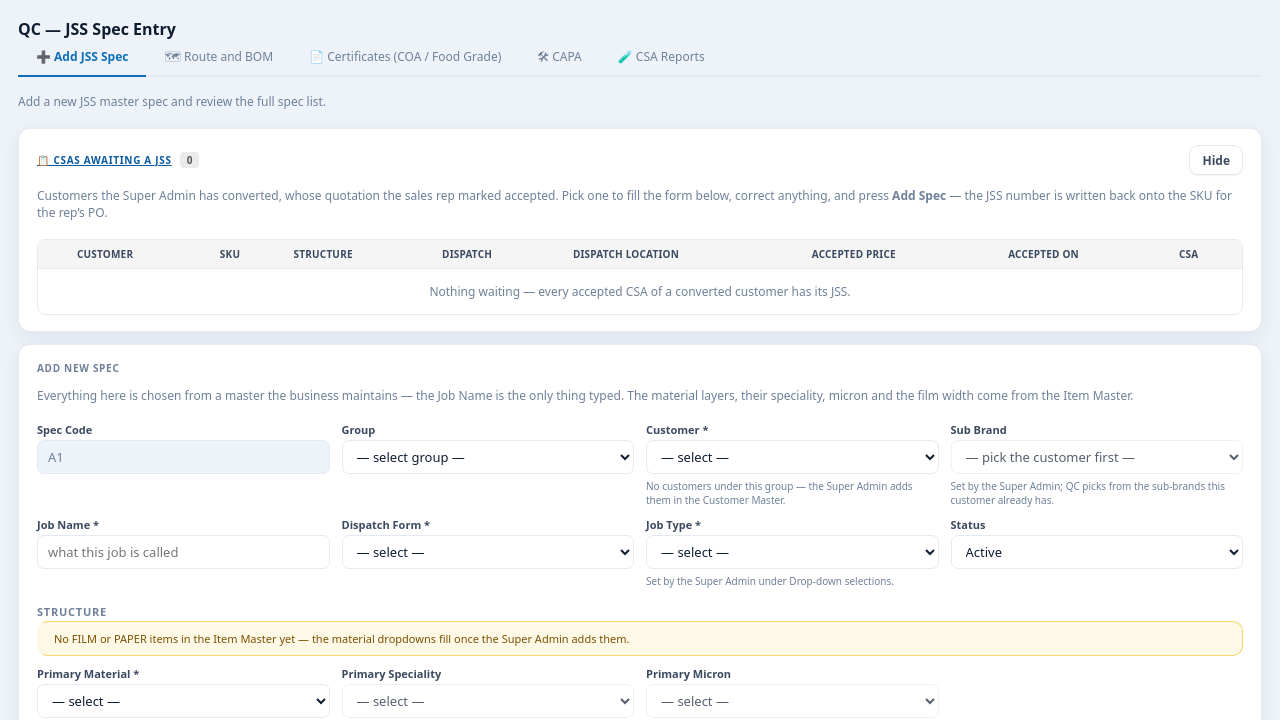
QC Certificates screen › opens a COA prefilled from the invoice and spec
Step 1. Click the text "📄 Certificates (COA / Food Grade)" → point(405, 56), box x1=309 y1=48 x2=501 y2=65
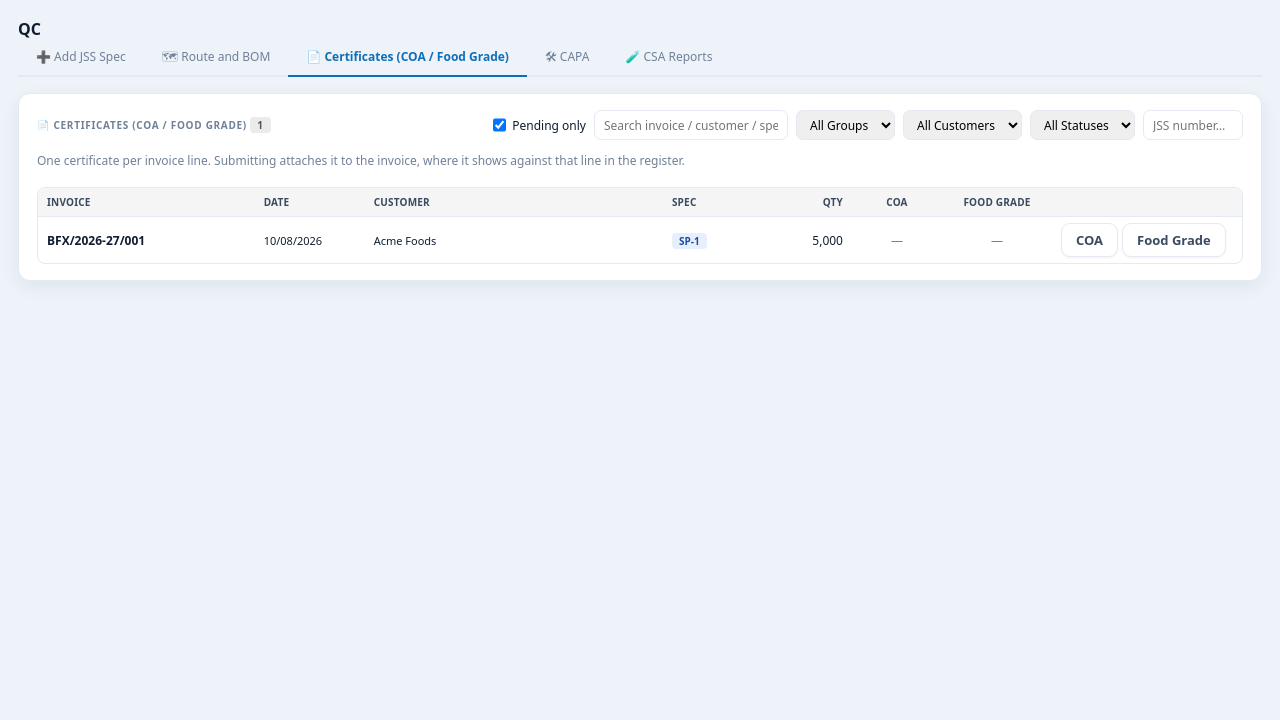
Step 2. Click the button with aria-label "COA for BFX/2026-27/001 SP-1" → point(1090, 240), box x1=1061 y1=223 x2=1118 y2=257
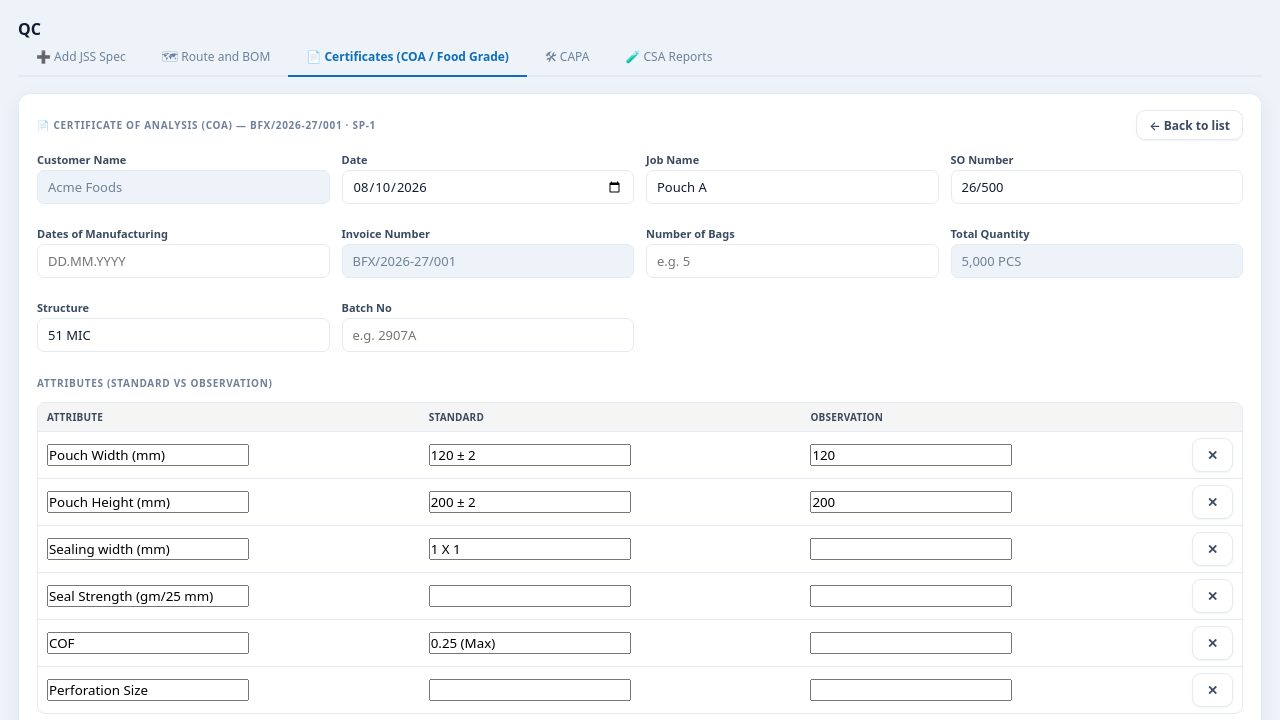
Result: the field named "Job Name" holds "Pouch A" at x1=646 y1=170 x2=938 y2=204
Result: the field named "SO Number" holds "26/500" at x1=950 y1=170 x2=1243 y2=204
Result: the field named "Structure" holds "51 MIC" at x1=37 y1=318 x2=330 y2=352
